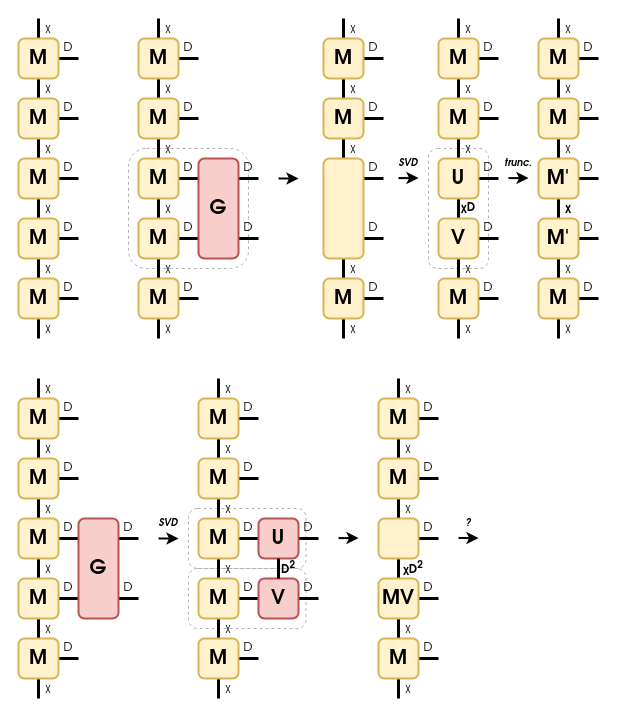
Some shapes in this 618 by 718 pixel diagram are drawn without their labels. Each missing label, with the centre of its shape:
"MG" belongs at [343,208].
"MU" belongs at [398,538].
